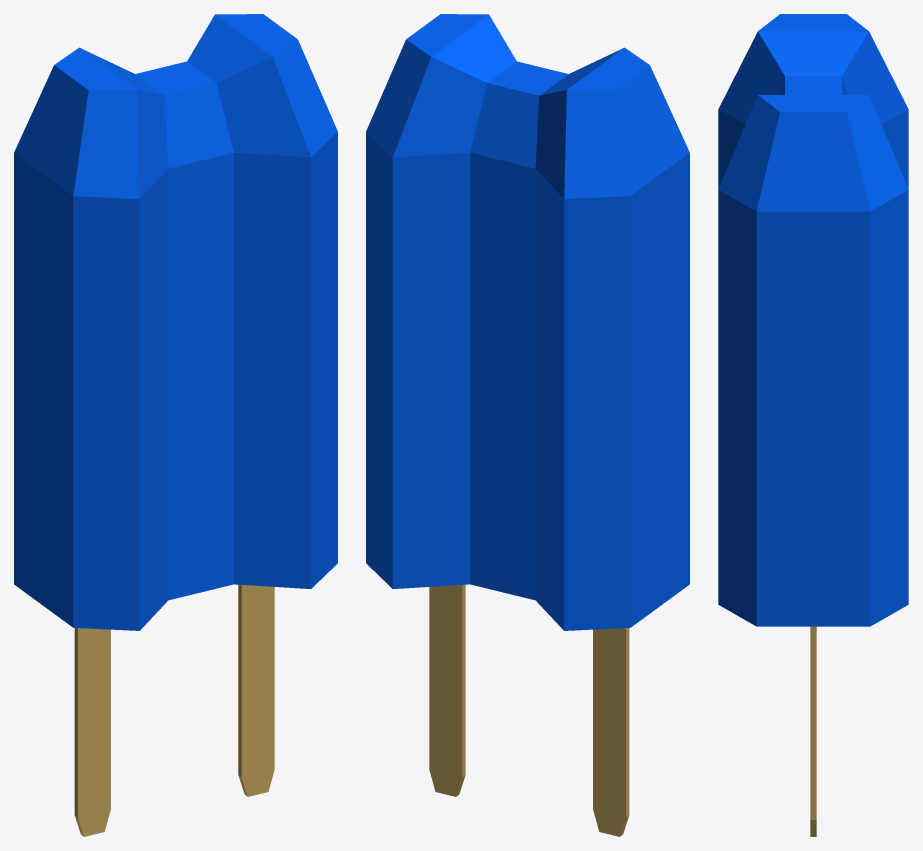
File: Blue Raspberry Popsicle.fbx
The picture shows the model from 3 angles, left to right: view 1: azimuth 30°, elevation 25°; view 2: azimuth 150°, elevation 25°; view 3: azimuth 270°, elevation 25°; orthographic projection. The views are drawn at different scales.
Parts seen in each view (by area): view 1: Blue Raspberry Popsicle; view 2: Blue Raspberry Popsicle; view 3: Blue Raspberry Popsicle.
Boxes of the visible parts, left/top/right/bottom form: Blue Raspberry Popsicle: left=14, top=14, right=337, bottom=836; Blue Raspberry Popsicle: left=366, top=14, right=689, bottom=836; Blue Raspberry Popsicle: left=718, top=14, right=908, bottom=836.
Size of the model in its own units: 4.11 by 11.3 by 2.67.
